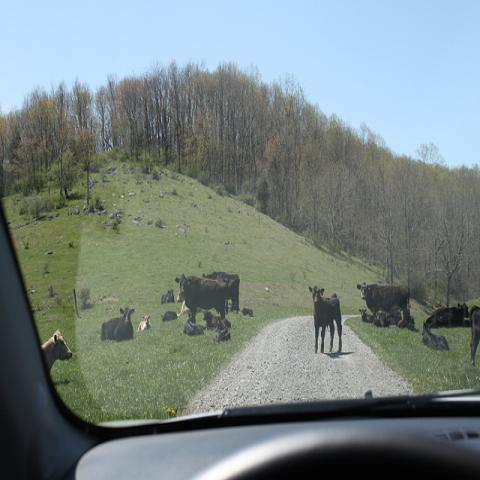car: (1, 210, 479, 472)
